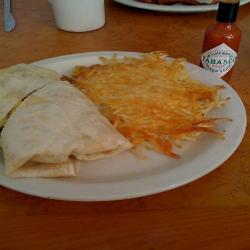ketchup: (197, 3, 245, 92)
